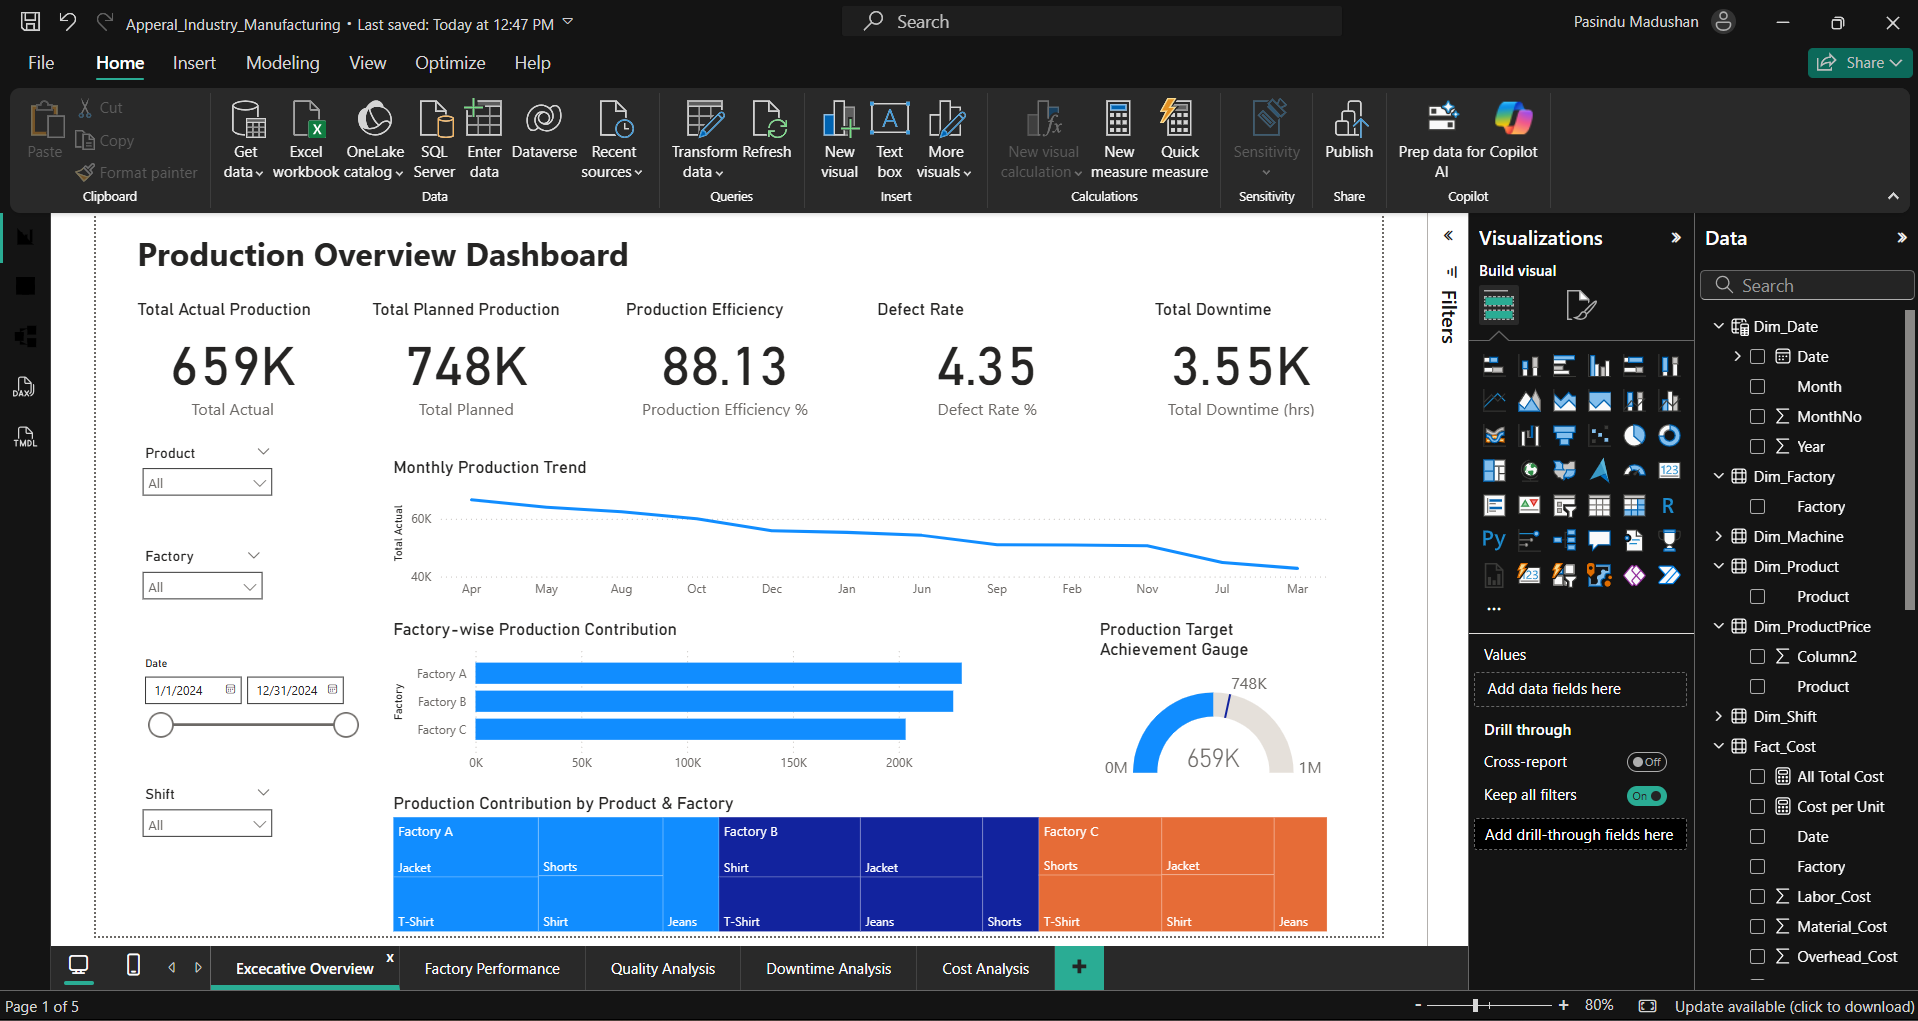

Layout of this report page (visuals, bound fields, positions):
{"tool":"powerbi","page":{"name":"Excecative Overview","canvas":[1280,720],"ordinal":0},"visuals":[{"type":"slicer","fields":{"Values":["Dim_Factory.Factory"]},"box":[35.7,328,140,91.9],"z":0},{"type":"slicer","fields":{"Values":["Dim_Product.Product"]},"box":[35.7,225,149.6,91.9],"z":1000},{"type":"slicer","fields":{"Values":["Dim_Shift.Shift"]},"box":[35.7,565.4,149.6,93.3],"z":2000},{"type":"card","title":"Total Actual Production","fields":{"Values":["Fact_Production.Total Actual"]},"box":[35.7,86.4,200.3,122.1],"z":3000},{"type":"slicer","fields":{"Values":["Fact_Production.Date"]},"box":[36.1,436.6,233.9,92.1],"z":4000},{"type":"textbox","box":[36.1,13.7,510,53.5],"z":5000},{"type":"card","title":"Total Planned Production","fields":{"Values":["Fact_Production.Total Planned"]},"box":[270.3,86.4,197.6,122.1],"z":6000},{"type":"card","title":"Production Efficiency","fields":{"Values":["Fact_Production.Production Efficiency %"]},"box":[522.8,86.4,207.2,122.1],"z":7000},{"type":"card","title":"Defect Rate","fields":{"Values":["Fact_Quality.Defect Rate %"]},"box":[772.6,86.4,229.2,122.1],"z":8000},{"type":"card","title":"Total Downtime","fields":{"Values":["Fact_Downtime.Total Downtime (hrs)"]},"box":[1048.4,86.4,182.5,122.1],"z":9000},{"type":"lineChart","title":"Monthly Production Trend","fields":{"Category":["Dim_Date.Month"],"Y":["Fact_Production.Total Actual"]},"box":[290.8,242.3,939.7,149.4],"z":10000},{"type":"clusteredBarChart","title":"Factory-wise Production Contribution","fields":{"Category":["Dim_Factory.Factory"],"Y":["Fact_Production.Total Actual"]},"box":[290.8,403.9,611.2,161.5],"z":11000},{"type":"gauge","title":"Production Target Achievement Gauge","fields":{"Y":["Fact_Production.Total Actual"],"TargetValue":["Fact_Production.Total Planned"]},"box":[993.9,404.3,236.4,163],"z":12000},{"type":"treemap","title":"Production Contribution by Product & Factory","fields":{"Group":["Fact_Downtime.Factory"],"Details":["Dim_Product.Product"],"Values":["Fact_Production.Total Actual"]},"box":[291.1,577.2,939.2,143.1],"z":13000}]}

Visuals, with their boxes on the page's 1280x720 design canvas (x1, y1, x2, y2). These are canvas units, not pixel positions in the 1918x1021 screenshot, which may show the page scaled, cropped or inside an application window:
slicer - Dim_Factory.Factory: 36,328,176,420
slicer - Dim_Product.Product: 36,225,185,317
slicer - Dim_Shift.Shift: 36,565,185,659
"Total Actual Production" card: 36,86,236,208
slicer - Fact_Production.Date: 36,437,270,529
textbox: 36,14,546,67
"Total Planned Production" card: 270,86,468,208
"Production Efficiency" card: 523,86,730,208
"Defect Rate" card: 773,86,1002,208
"Total Downtime" card: 1048,86,1231,208
"Monthly Production Trend" lineChart: 291,242,1230,392
"Factory-wise Production Contribution" clusteredBarChart: 291,404,902,565
"Production Target Achievement Gauge" gauge: 994,404,1230,567
"Production Contribution by Product & Factory" treemap: 291,577,1230,720
